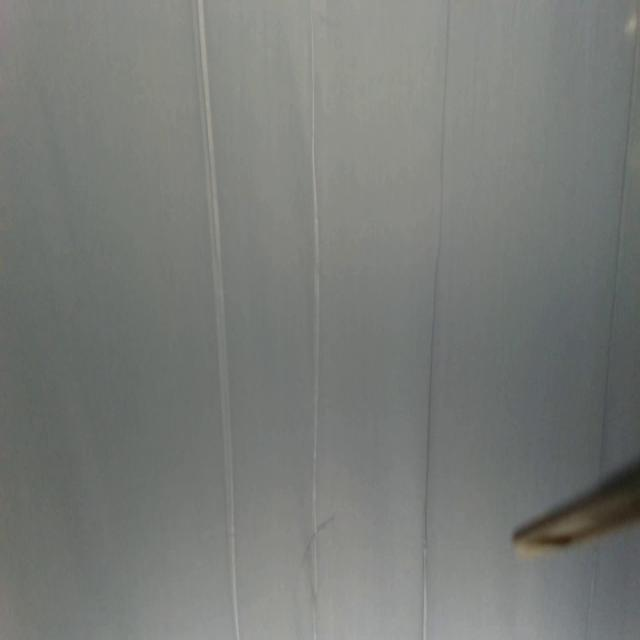crease: (191, 1, 239, 640), (421, 0, 454, 636), (598, 0, 640, 449), (308, 2, 322, 638), (584, 542, 600, 640)
